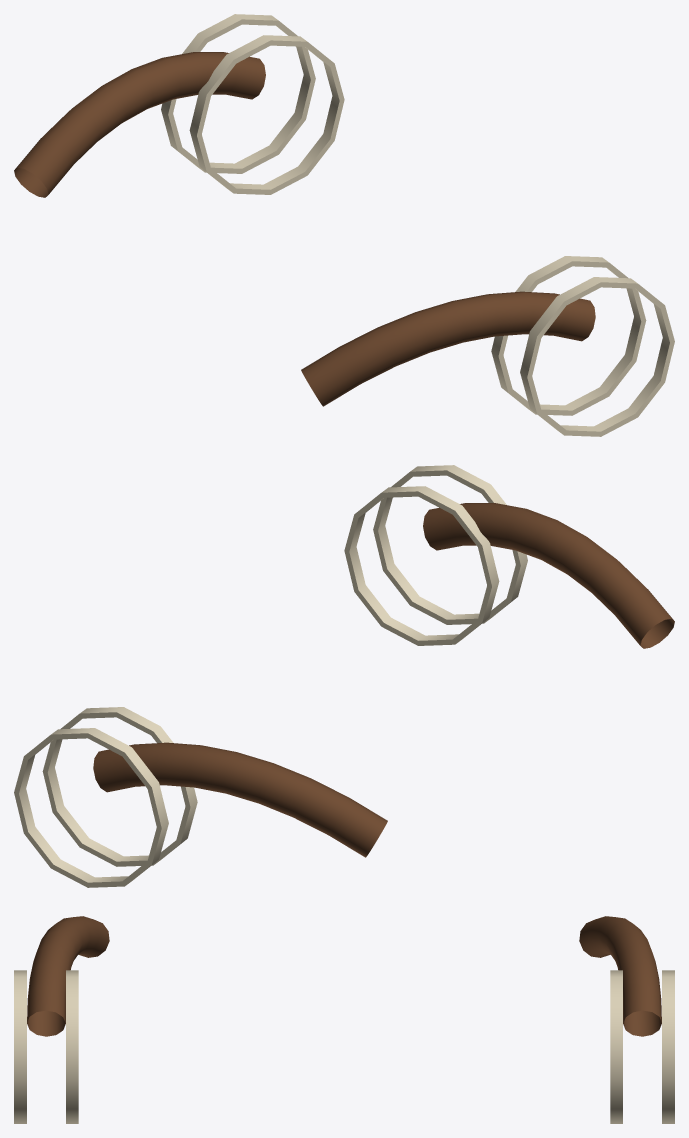
Rendered from kpfe_pylon.obj.
3 renders of one model, top to bottom at view 1: azimuth 30°, elevation 25°; view 2: azimuth 150°, elevation 25°; view 3: azimuth 270°, elevation 25°, orthographic. The views are drawn at different scales.
Visible parts, largest first — view 1: kpfe_pylon; view 2: kpfe_pylon; view 3: kpfe_pylon.
Boxes of the visible parts, box(x1,y1,x2,y2) form: kpfe_pylon: box(14, 14, 674, 436); kpfe_pylon: box(14, 465, 674, 887); kpfe_pylon: box(14, 916, 674, 1123).
Size of the model in its own units: 1.33 by 0.594 by 2.55.
